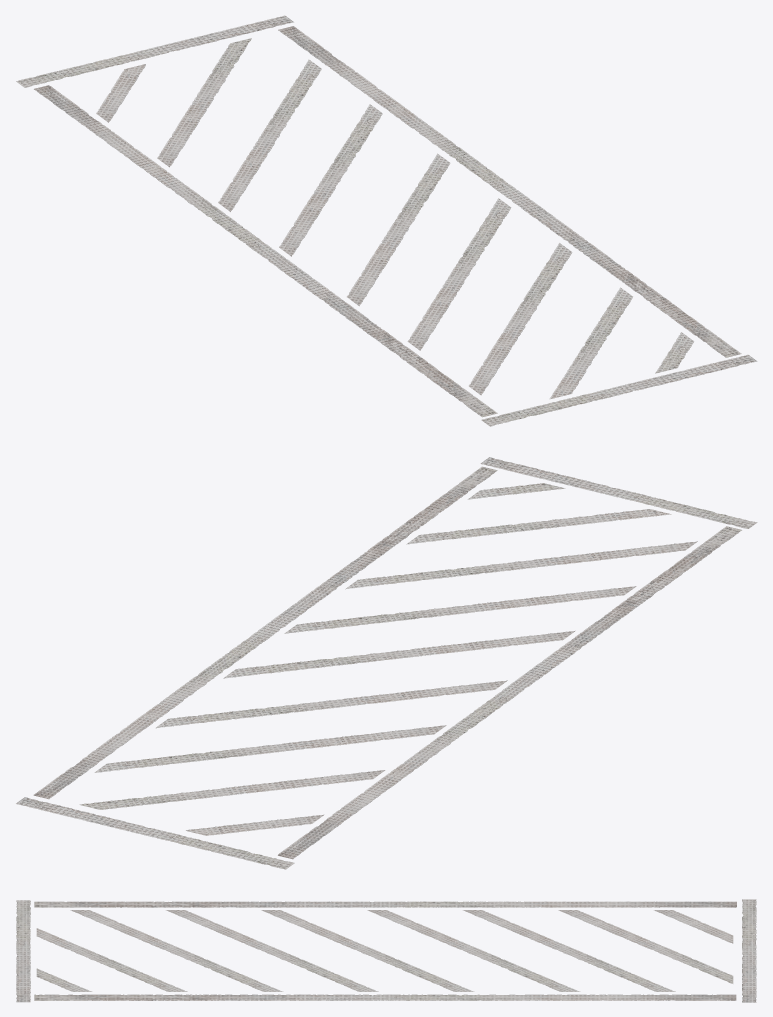
The model's file is CP_Diagonal_Hatch_Marking_02.fbx.
The picture shows the model from 3 angles, top to bottom: view 1: azimuth 30°, elevation 25°; view 2: azimuth 150°, elevation 25°; view 3: azimuth 270°, elevation 25°; orthographic projection. The views are drawn at different scales.
Visible parts, largest first — view 1: CP_Diagonal_Hatch_Marking_02; view 2: CP_Diagonal_Hatch_Marking_02; view 3: CP_Diagonal_Hatch_Marking_02.
Part boxes in pixels (<box>): CP_Diagonal_Hatch_Marking_02: <box>16,15,757,426</box>; CP_Diagonal_Hatch_Marking_02: <box>16,457,757,869</box>; CP_Diagonal_Hatch_Marking_02: <box>16,899,756,1002</box>.
Size of the model in its own units: 221 by 0 by 677.
